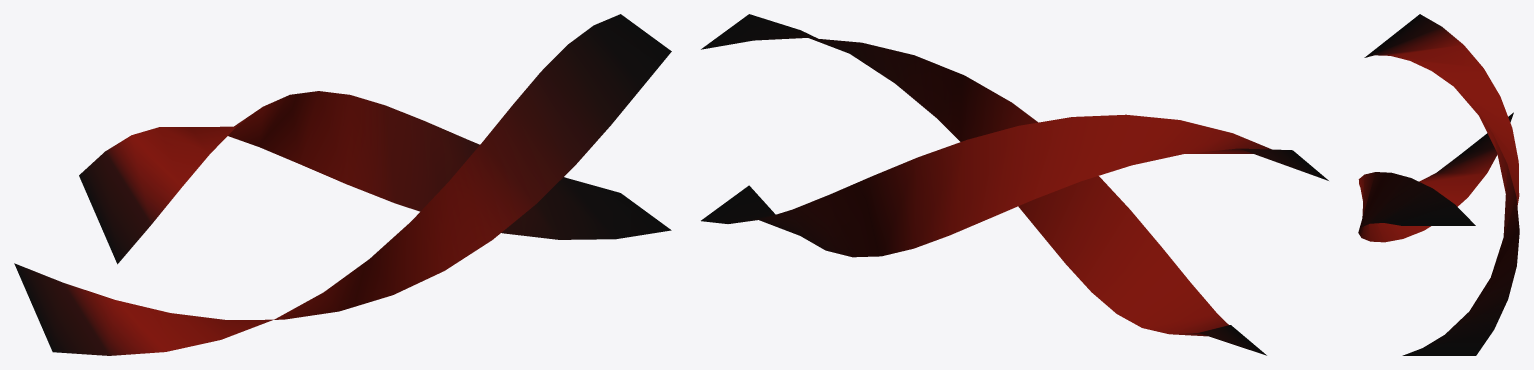
The model's file is SM_Twist.fbx.
3 renders of one model, left to right at view 1: azimuth 30°, elevation 25°; view 2: azimuth 150°, elevation 25°; view 3: azimuth 270°, elevation 25°, orthographic. The views are drawn at different scales.
Parts seen in each view (by area): view 1: SM_Twist; view 2: SM_Twist; view 3: SM_Twist.
Part boxes in pixels (x1=…): SM_Twist: x1=14, y1=14, x2=671, y2=355; SM_Twist: x1=701, y1=14, x2=1328, y2=355; SM_Twist: x1=1358, y1=14, x2=1519, y2=355.
Size of the model in its own units: 131 by 43.41 by 43.44.
